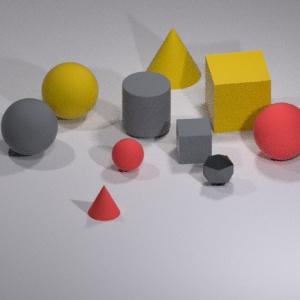lapphuong: (199, 50, 271, 140), (172, 116, 217, 170)
lucgiac: (201, 153, 235, 187)
non: (139, 27, 204, 94), (83, 181, 125, 221)
tron: (36, 56, 102, 123), (2, 99, 58, 161), (254, 101, 300, 166), (107, 135, 145, 173)
tru: (116, 72, 171, 143)
